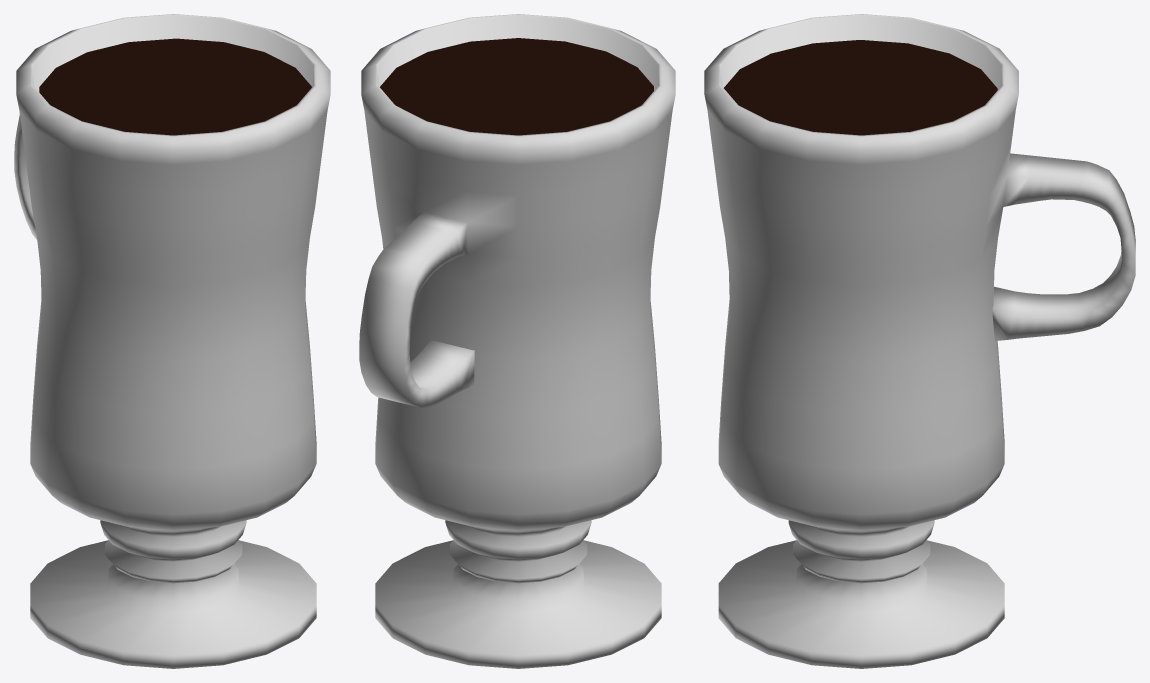
Rendered from HotChocolate_model.fbx.
3 views of the same model, side by side, from view 1: azimuth 30°, elevation 25°; view 2: azimuth 150°, elevation 25°; view 3: azimuth 270°, elevation 25° (orthographic).
Visible parts, largest first — view 1: HotChocolate, HotChocolateLiquid; view 2: HotChocolate, HotChocolateLiquid; view 3: HotChocolate, HotChocolateLiquid.
Part boxes in pixels (x1,y1,x2,y2): HotChocolate: (14, 14, 330, 668); HotChocolateLiquid: (39, 38, 311, 135); HotChocolate: (359, 14, 675, 668); HotChocolateLiquid: (380, 38, 653, 135); HotChocolate: (704, 14, 1135, 668); HotChocolateLiquid: (724, 40, 997, 135).
Bounding box in the file's own units: 19.49 × 35.85 × 26.32.
